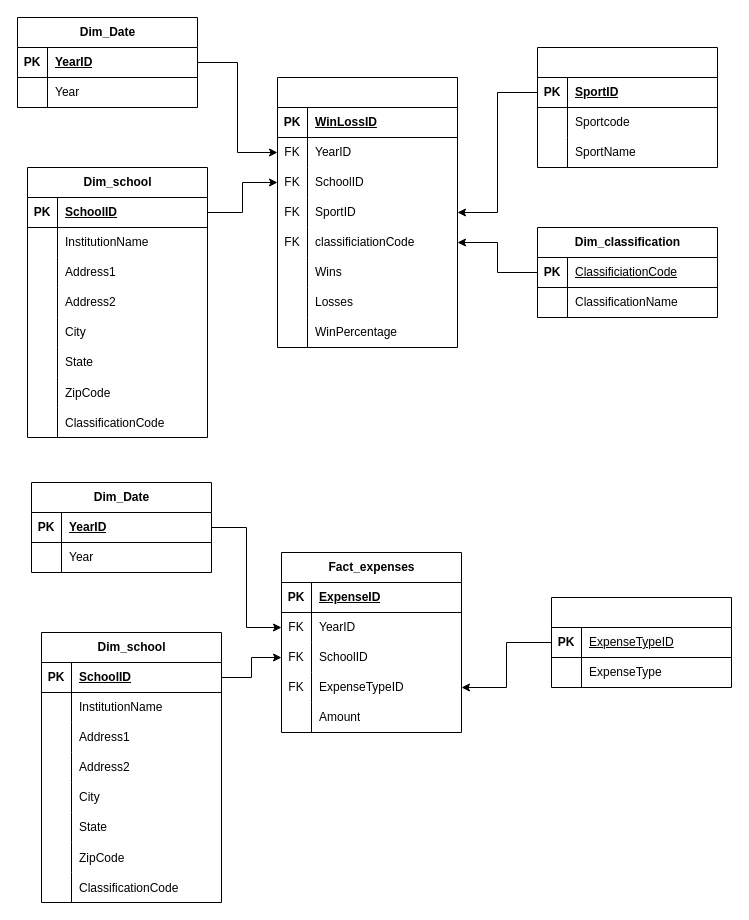
This 749x920 diagram has some shape labels left out. Each missing label, with the box of its shape:
Dim_Expense: (550, 596, 732, 688)
Dim_Sport: (536, 46, 718, 168)
Fact_win_loss: (276, 76, 458, 348)
